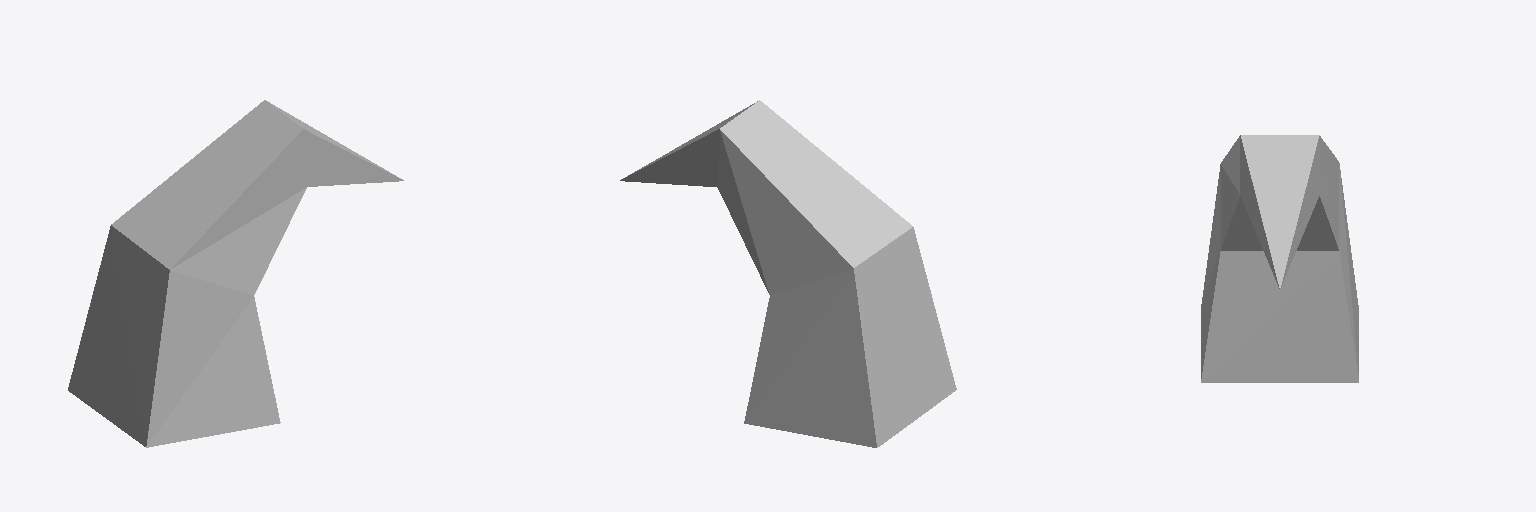
File: skeletal_000009.obj
3 views of the same model, side by side, from view 1: azimuth 30°, elevation 25°; view 2: azimuth 150°, elevation 25°; view 3: azimuth 270°, elevation 25° (orthographic).
Parts seen in each view (by area): view 1: Cube; view 2: Cube; view 3: Cube.
Boxes of the visible parts, x1,y1,x2,y2 form: Cube: [68, 100, 403, 447]; Cube: [620, 100, 956, 447]; Cube: [1201, 135, 1358, 382].
Bounding box in the file's own units: 4.35 × 3.76 × 2.